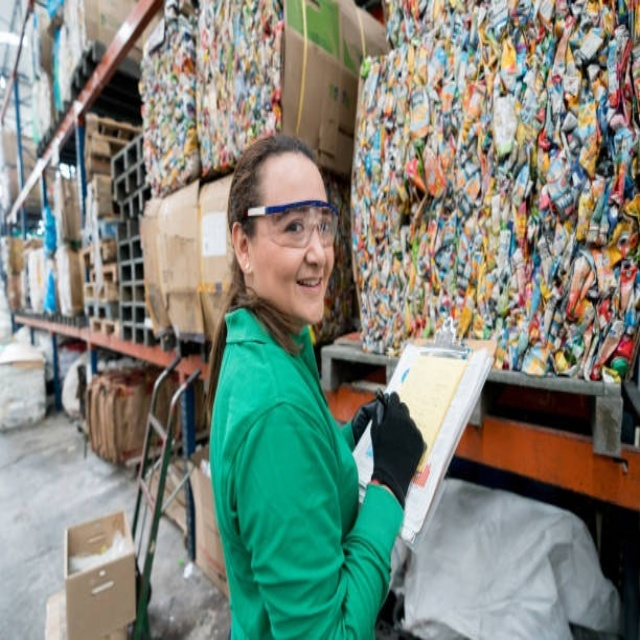Gafas: (243, 199, 341, 241)
Guantes: (353, 387, 430, 501)
Sin_mascara: (292, 268, 326, 316)
